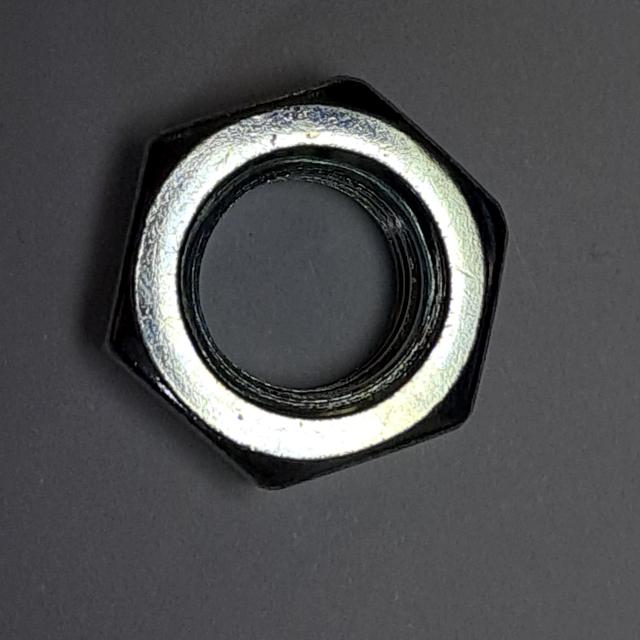Excellent: (85, 62, 519, 510)
